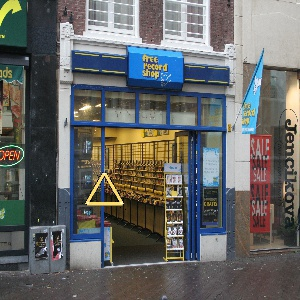triangle: (81, 170, 127, 210)
